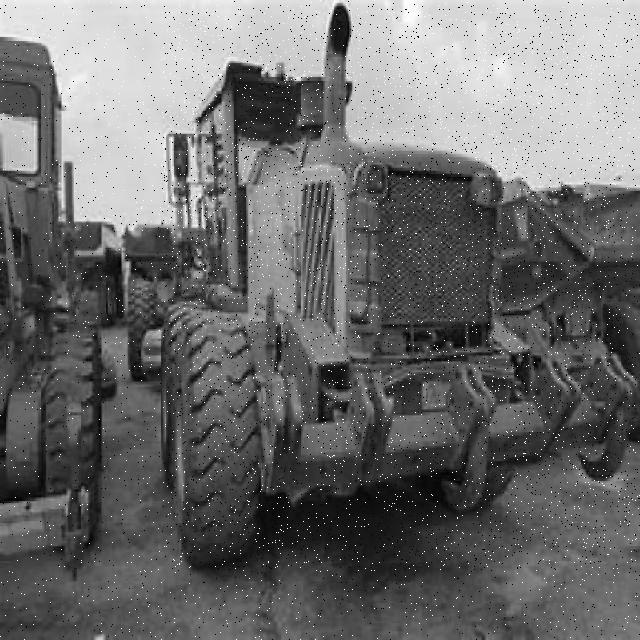Construction Equipment: (162, 6, 636, 571)
